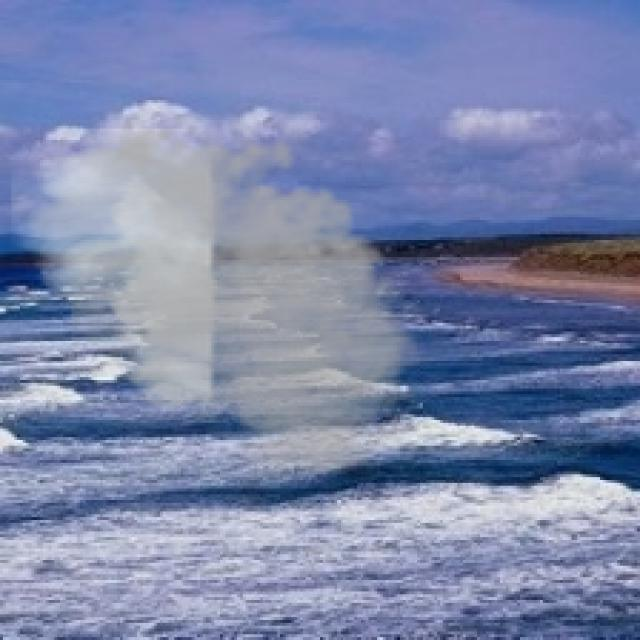smoke: (12, 114, 437, 483)
